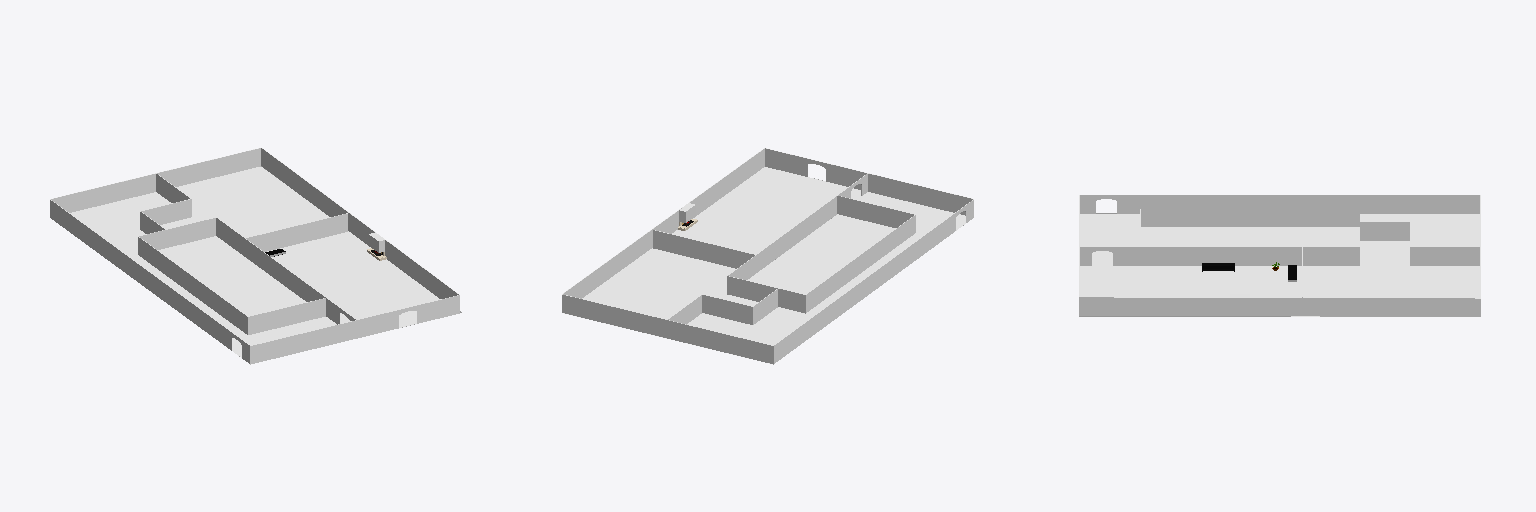
File: CASA 1.obj
3 renders of one model, left to right at view 1: azimuth 30°, elevation 25°; view 2: azimuth 150°, elevation 25°; view 3: azimuth 270°, elevation 25°, orthographic.
Parts seen in each view (by area): view 1: room_21_97, room_18_94, room_20_96, wall_3_16, wall_4_22, wall_1_5, wall_2_11, room_16_92, room_19_95, wall_12_71, wall_9_53, wall_13_77 (+4 smaller); view 2: room_21_97, room_18_94, room_20_96, wall_1_4, wall_4_22, wall_3_17, wall_2_11, room_19_95, room_16_92, wall_12_71, wall_9_52, wall_14_82 (+3 smaller); view 3: wall_2_10, room_21_97, wall_4_23, room_18_94, room_20_96, wall_12_70, wall_14_83, room_16_92, room_19_95, wall_5_28, room_17_93, wall_10_58 (+2 smaller).
Part boxes in pixels (x1,y1,x2,y2): room_21_97: (268, 232, 440, 327); room_18_94: (176, 167, 348, 251); room_20_96: (141, 236, 305, 328); wall_3_16: (250, 295, 459, 364); wall_4_22: (50, 200, 249, 363); wall_1_5: (51, 148, 260, 212); wall_2_11: (261, 148, 458, 298); room_16_92: (70, 192, 171, 256); room_19_95: (130, 255, 336, 357); wall_12_71: (138, 237, 247, 334); wall_9_53: (246, 214, 347, 251); wall_13_77: (248, 298, 325, 334); room_21_97: (672, 167, 861, 254); room_18_94: (564, 248, 735, 338); room_20_96: (747, 214, 897, 294); wall_1_4: (562, 295, 773, 363); wall_4_22: (774, 200, 973, 363); wall_3_17: (765, 148, 972, 215); wall_2_11: (563, 149, 764, 298); room_19_95: (806, 192, 965, 314); room_16_92: (687, 307, 814, 363); wall_12_71: (806, 215, 915, 312); wall_9_52: (653, 230, 754, 268); wall_14_82: (756, 196, 836, 272); wall_2_10: (1079, 297, 1480, 316); room_21_97: (1080, 265, 1301, 316); wall_4_23: (1080, 195, 1479, 213); room_18_94: (1302, 265, 1479, 316); room_20_96: (1141, 227, 1359, 246); wall_12_70: (1141, 209, 1359, 226); wall_14_83: (1140, 247, 1301, 265); room_16_92: (1360, 214, 1479, 246); room_19_95: (1080, 214, 1139, 264); wall_5_28: (1410, 247, 1479, 265); room_17_93: (1360, 241, 1409, 264); wall_10_58: (1303, 247, 1359, 265).
Size of the model in its own units: 3010 by 250 by 4941.